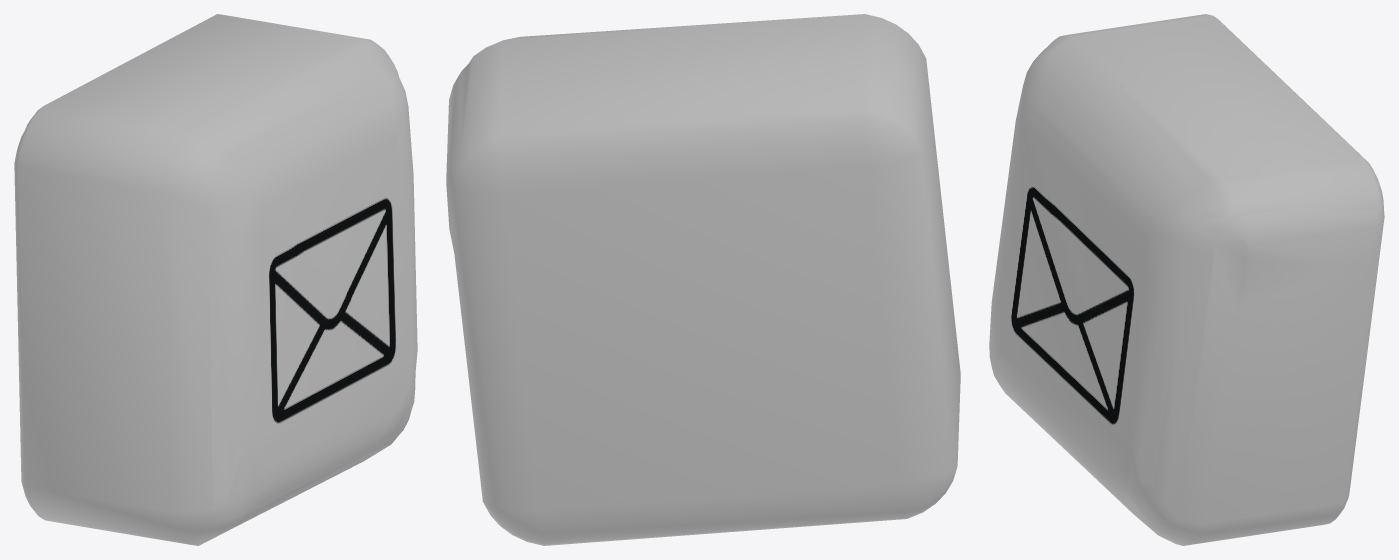
Rendered from mail.glb.
The picture shows the model from 3 angles, left to right: view 1: azimuth 30°, elevation 25°; view 2: azimuth 150°, elevation 25°; view 3: azimuth 270°, elevation 25°; orthographic projection. The views are drawn at different scales.
Parts seen in each view (by area): view 1: mail; view 2: mail; view 3: mail.
Boxes of the visible parts, bbox=[...] form: mail: bbox=[14, 14, 417, 545]; mail: bbox=[446, 14, 960, 545]; mail: bbox=[989, 14, 1384, 545].
Bounding box in the file's own units: 5.86 × 5.88 × 5.14.
Materials: 1 (1 with a texture image).
